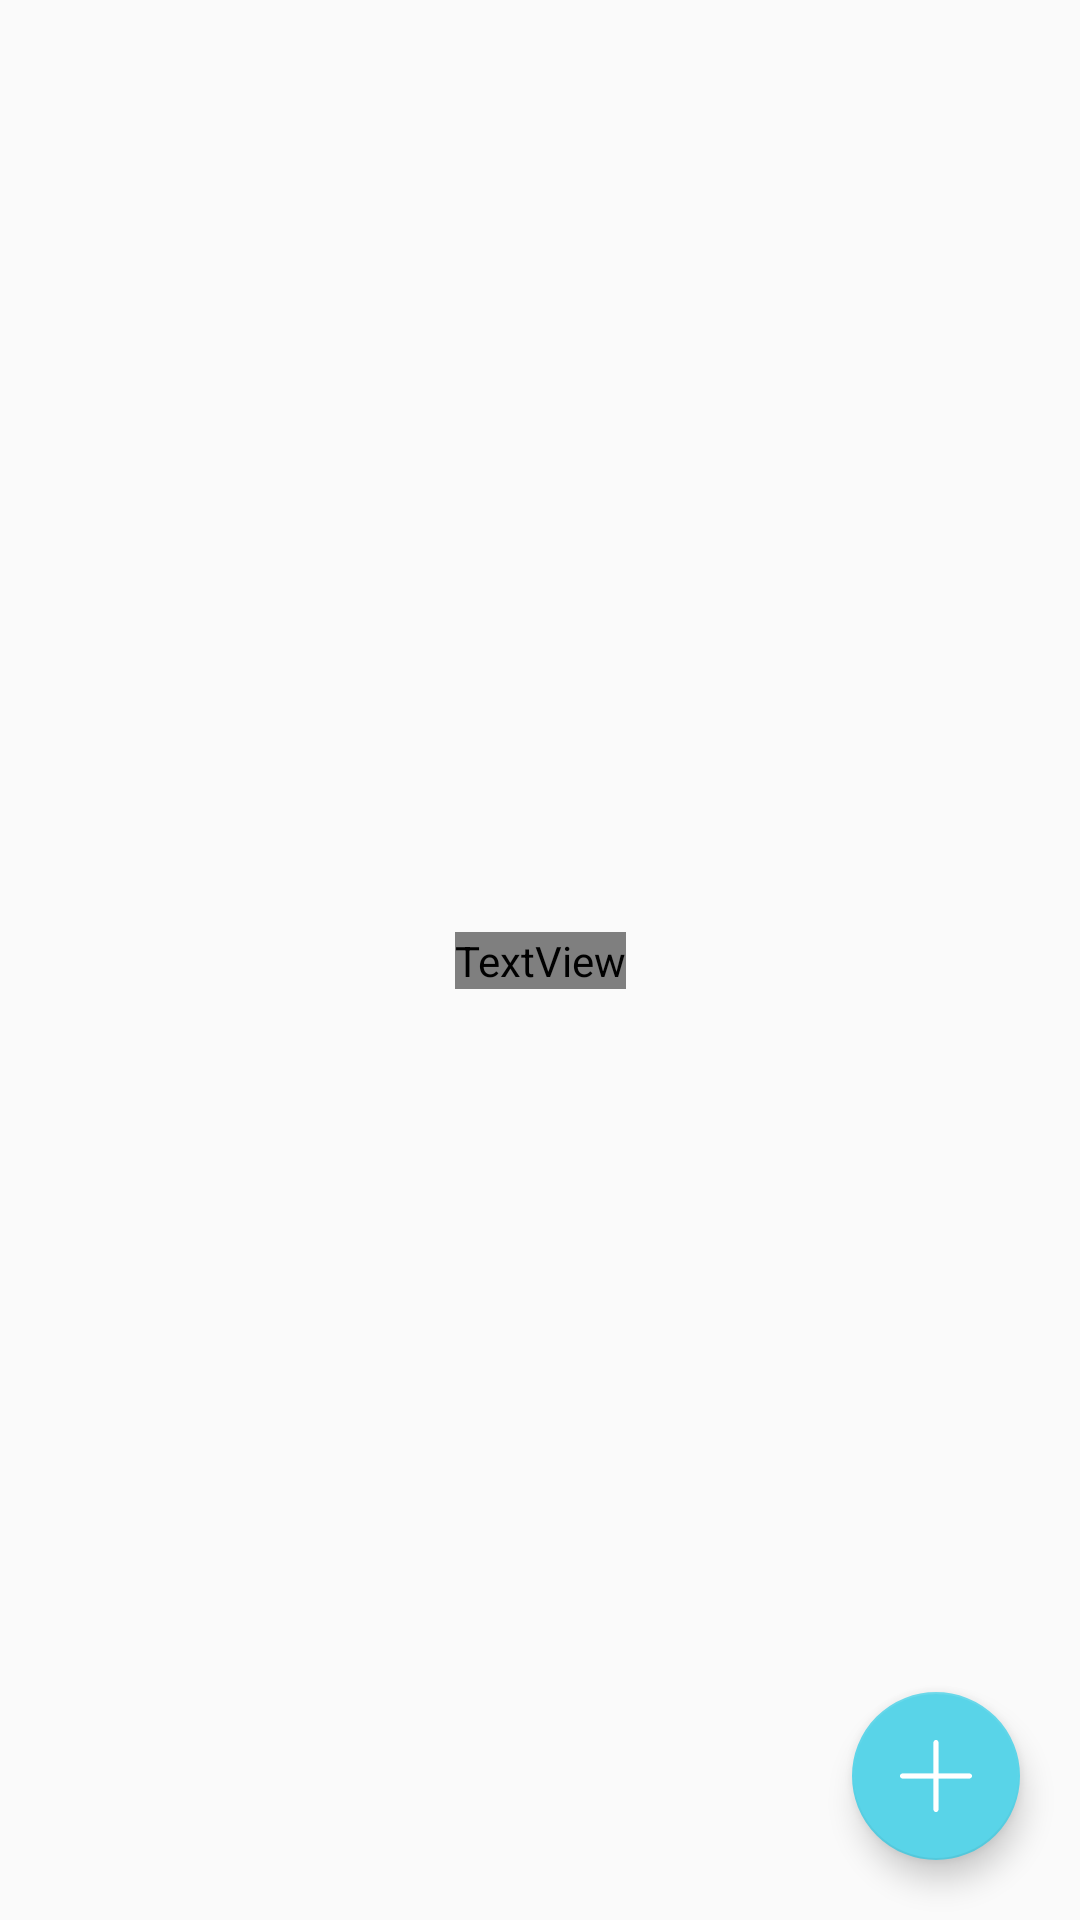

Locate icon controls on the screen. Image size 1080 x 1920, boxes as (x1, y1, x2, y2).
plus: (852, 1692, 1020, 1860)
